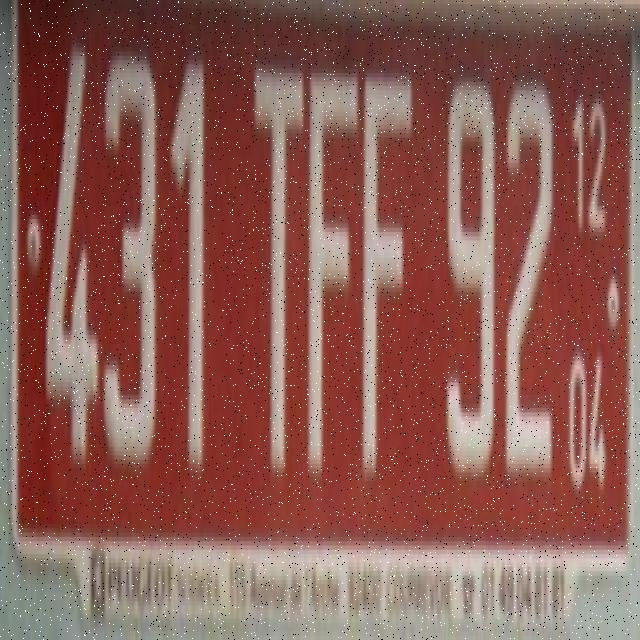licenseplate: (13, 0, 635, 591)
